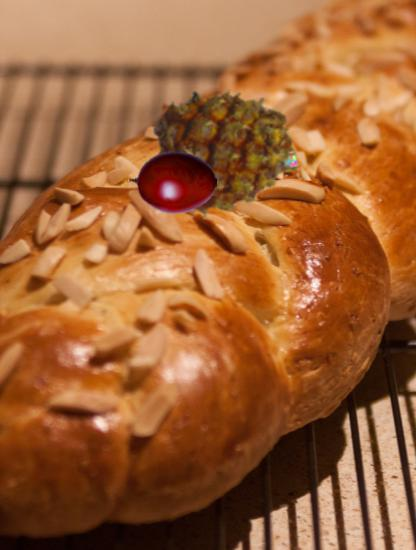Pineapple: (154, 80, 296, 222)
Tamarillo: (128, 138, 217, 227)
